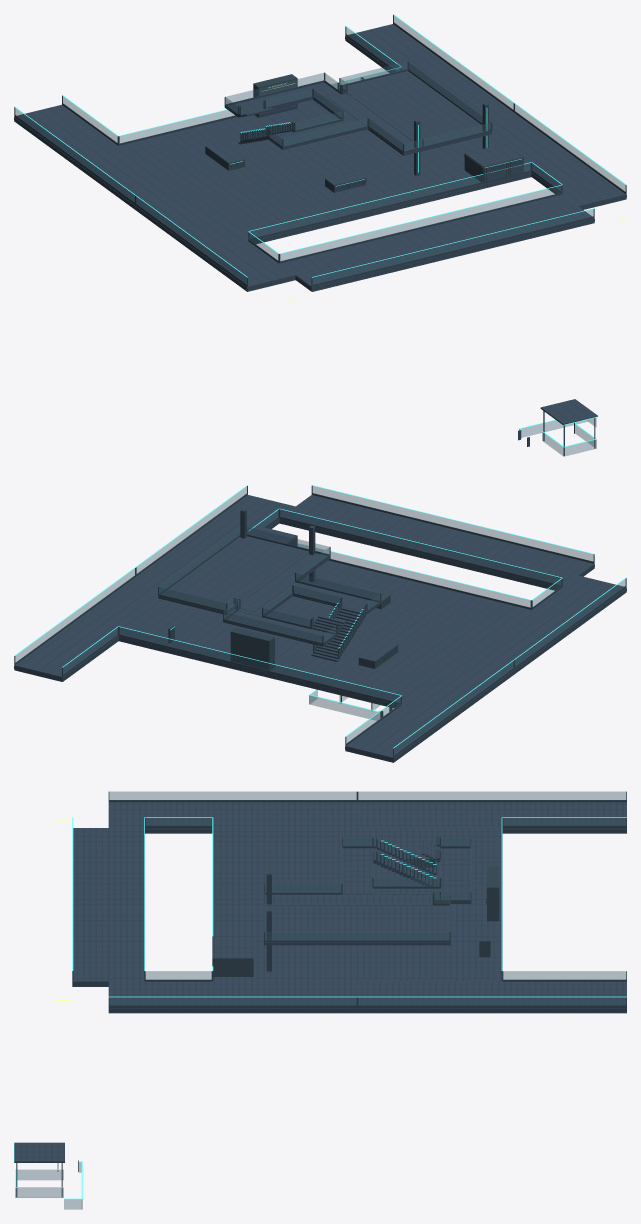
The model's file is v02-detailed-01-05-coffered.glb.
3 views of the same model, one above another, from view 1: azimuth 30°, elevation 25°; view 2: azimuth 150°, elevation 25°; view 3: azimuth 270°, elevation 25° (orthographic). The views are drawn at different scales.
Parts seen in each view (by area): view 1: v02-detailed-01-05-coffered; view 2: v02-detailed-01-05-coffered; view 3: v02-detailed-01-05-coffered.
Boxes of the visible parts, x1,y1,x2,y2 form: v02-detailed-01-05-coffered: (14,14,626,456); v02-detailed-01-05-coffered: (14,485,626,762); v02-detailed-01-05-coffered: (14,791,626,1209).
Size of the model in its own units: 47.1 by 30.8 by 59.13.
Materials: 5 (1 with a texture image).
